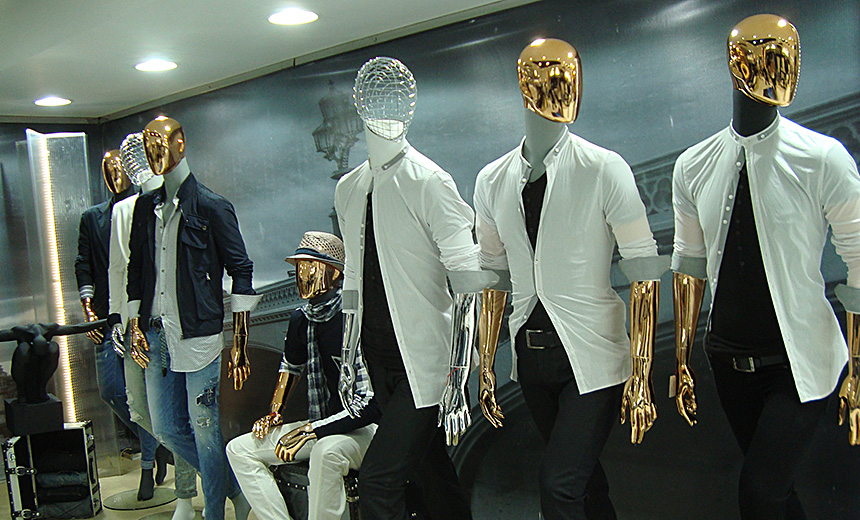person-like: (473, 31, 669, 520), (662, 6, 860, 489), (324, 48, 484, 520), (119, 110, 265, 520), (220, 222, 380, 520), (102, 129, 201, 520), (71, 147, 170, 503)
